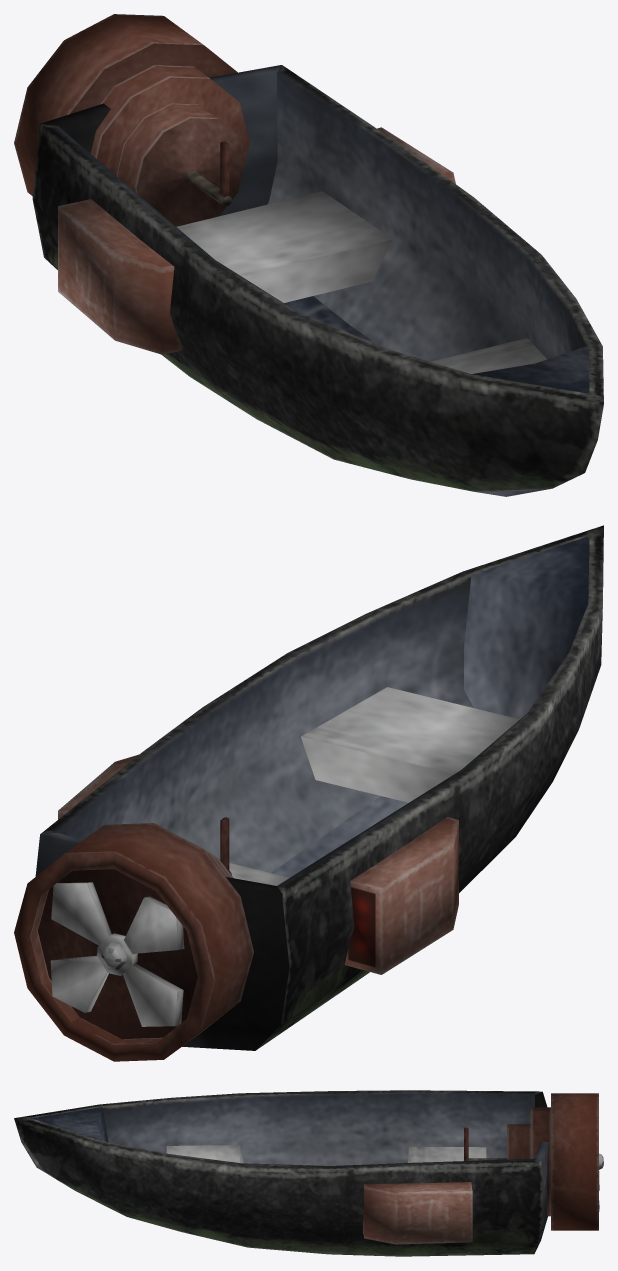
The model's file is MESH_BOAT_FULL.fbx.
3 renders of one model, top to bottom at view 1: azimuth 30°, elevation 25°; view 2: azimuth 150°, elevation 25°; view 3: azimuth 270°, elevation 25°, orthographic. The views are drawn at different scales.
Visible parts, largest first — view 1: MESH_BOAT; view 2: MESH_BOAT; view 3: MESH_BOAT.
Part boxes in pixels (box(x1,y1,x2,y2)): MESH_BOAT: box(14, 14, 603, 496); MESH_BOAT: box(14, 525, 603, 1061); MESH_BOAT: box(14, 1090, 603, 1256).
Size of the model in its own units: 0.5344 by 0.3476 by 1.35.
